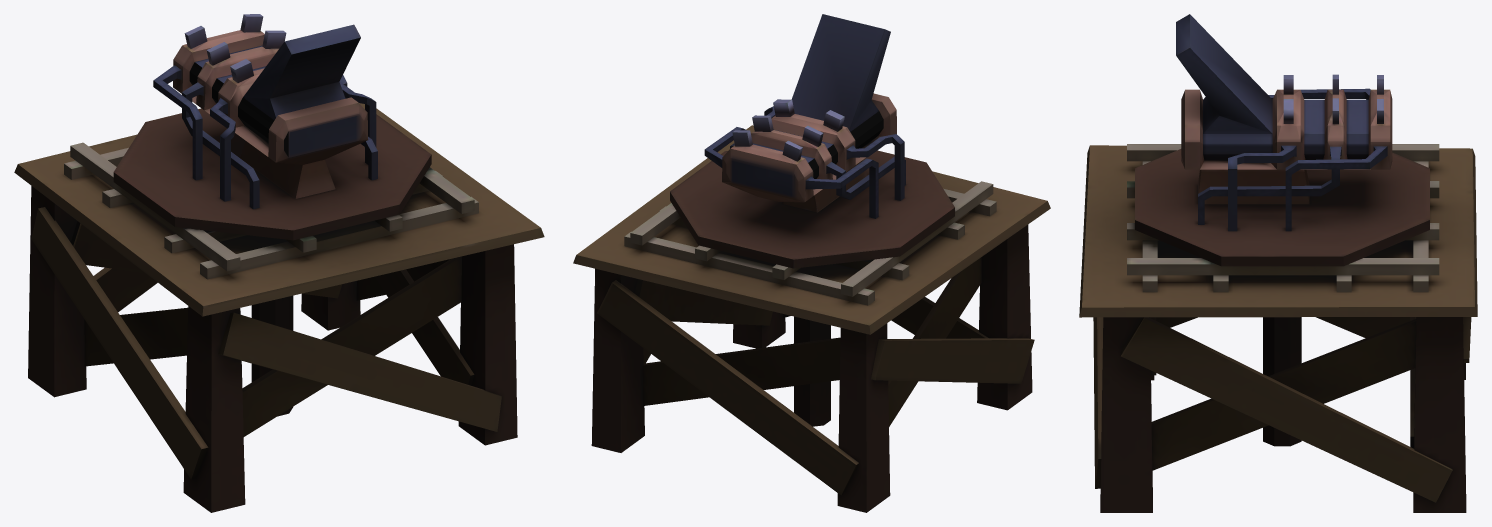
Rendered from tile_sawbladelauncher_lod1.fbx.
3 renders of one model, left to right at view 1: azimuth 30°, elevation 25°; view 2: azimuth 150°, elevation 25°; view 3: azimuth 270°, elevation 25°, orthographic. The views are drawn at different scales.
Visible parts, largest first — view 1: Base_lod1, SawBlade_Launcher_lod1; view 2: Base_lod1, SawBlade_Launcher_lod1; view 3: Base_lod1, SawBlade_Launcher_lod1.
Boxes of the visible parts, <box> form: Base_lod1: <box>14,103,544,512</box>; SawBlade_Launcher_lod1: <box>113,14,431,416</box>; Base_lod1: <box>573,125,1050,512</box>; SawBlade_Launcher_lod1: <box>670,14,954,426</box>; Base_lod1: <box>1079,144,1477,512</box>; SawBlade_Launcher_lod1: <box>1135,14,1429,446</box>.
Bounding box in the file's own units: 0.0327 × 0.0378 × 0.0335.
